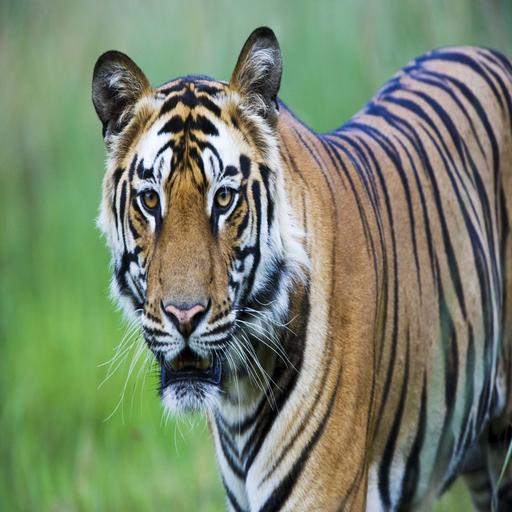Tiger: (86, 25, 512, 512)
